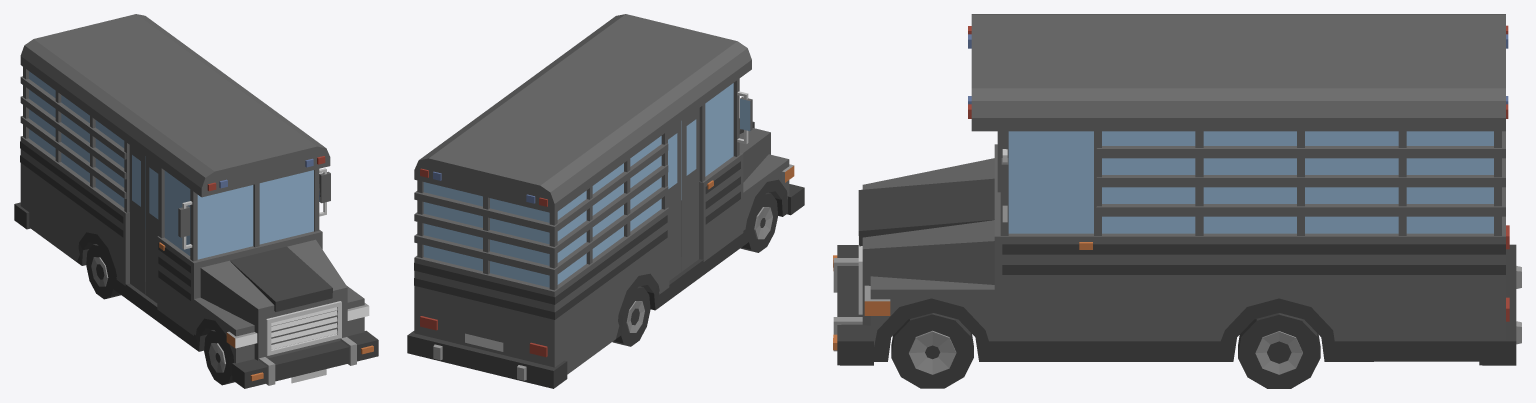
File: transport_purpose_001.fbx
The picture shows the model from 3 angles, left to right: view 1: azimuth 30°, elevation 25°; view 2: azimuth 150°, elevation 25°; view 3: azimuth 270°, elevation 25°; orthographic projection. The views are drawn at different scales.
Visible parts, largest first — view 1: transport_purpose_001; view 2: transport_purpose_001; view 3: transport_purpose_001.
Part boxes in pixels (bbox=[...]): transport_purpose_001: bbox=[14, 14, 378, 388]; transport_purpose_001: bbox=[407, 14, 804, 388]; transport_purpose_001: bbox=[833, 14, 1521, 388].
Bounding box in the file's own units: 202 × 255 × 544.
